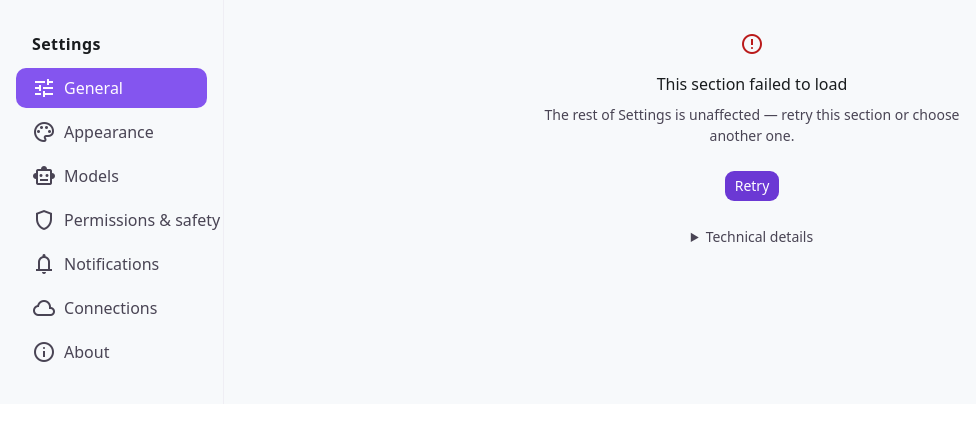
Test: Settings › pane-level error boundary (sub-page crash) › retry remounts the pane once its data loads
The width and height of the screenshot is (976, 421).
Expected: the message with test id "pane-error" is shown, [544, 30, 960, 246]
Click the button with test id "pane-error-retry": (752, 186) [724, 170, 780, 202]
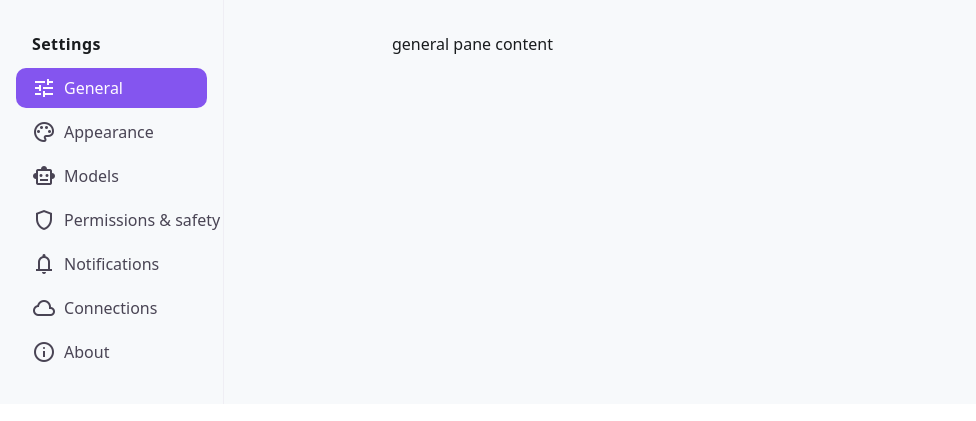
Expected: the text "general pane content" is shown, [392, 33, 553, 55]
Expected: the message with test id "pane-error" is gone
Expected: the element with test id "pane-error-details" is gone
